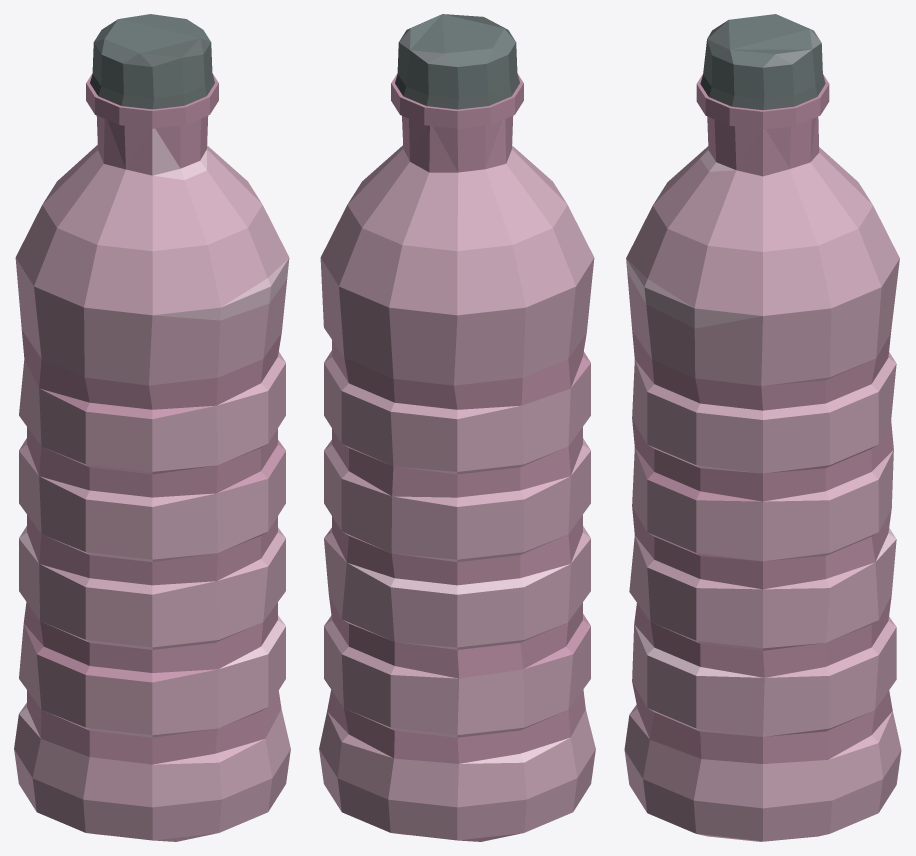
The model's file is mesh_bottle_03.fbx.
3 views of the same model, side by side, from view 1: azimuth 30°, elevation 25°; view 2: azimuth 150°, elevation 25°; view 3: azimuth 270°, elevation 25° (orthographic).
Parts seen in each view (by area): view 1: mesh_bottle_03; view 2: mesh_bottle_03; view 3: mesh_bottle_03.
Part boxes in pixels (x1=…): mesh_bottle_03: x1=14, y1=14, x2=290, y2=841; mesh_bottle_03: x1=319, y1=14, x2=595, y2=841; mesh_bottle_03: x1=624, y1=14, x2=901, y2=841.
Size of the model in its own units: 0.1865 by 0.5671 by 0.1865.
